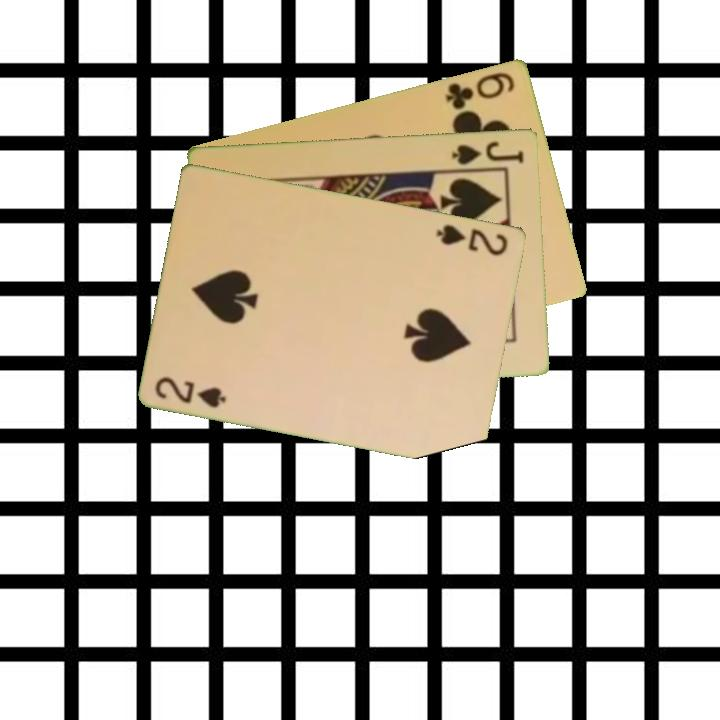2s: (433, 220, 511, 258), (152, 373, 230, 411)
6c: (442, 68, 518, 112)
Js: (448, 137, 527, 168)
